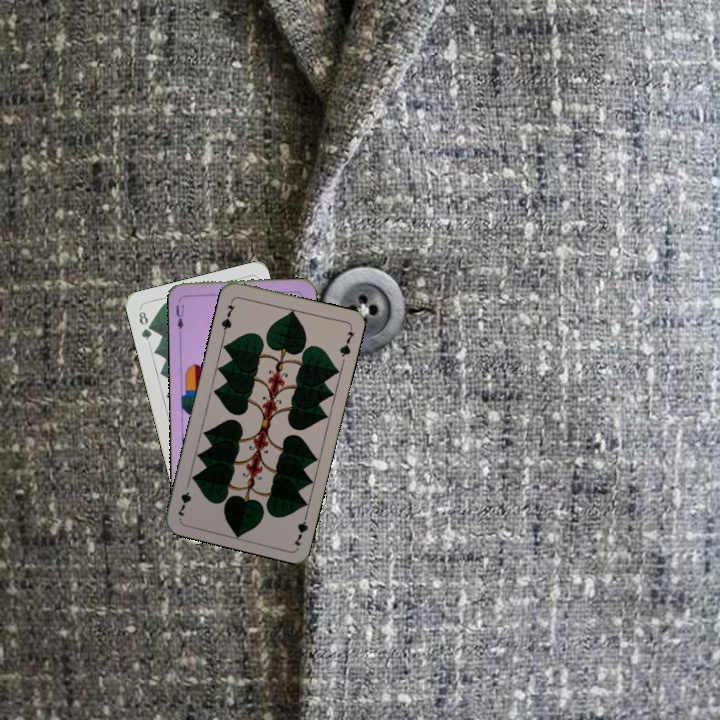EU: (172, 301, 187, 335)
G7: (289, 508, 311, 548), (217, 296, 238, 336)
G8: (135, 307, 155, 342)
